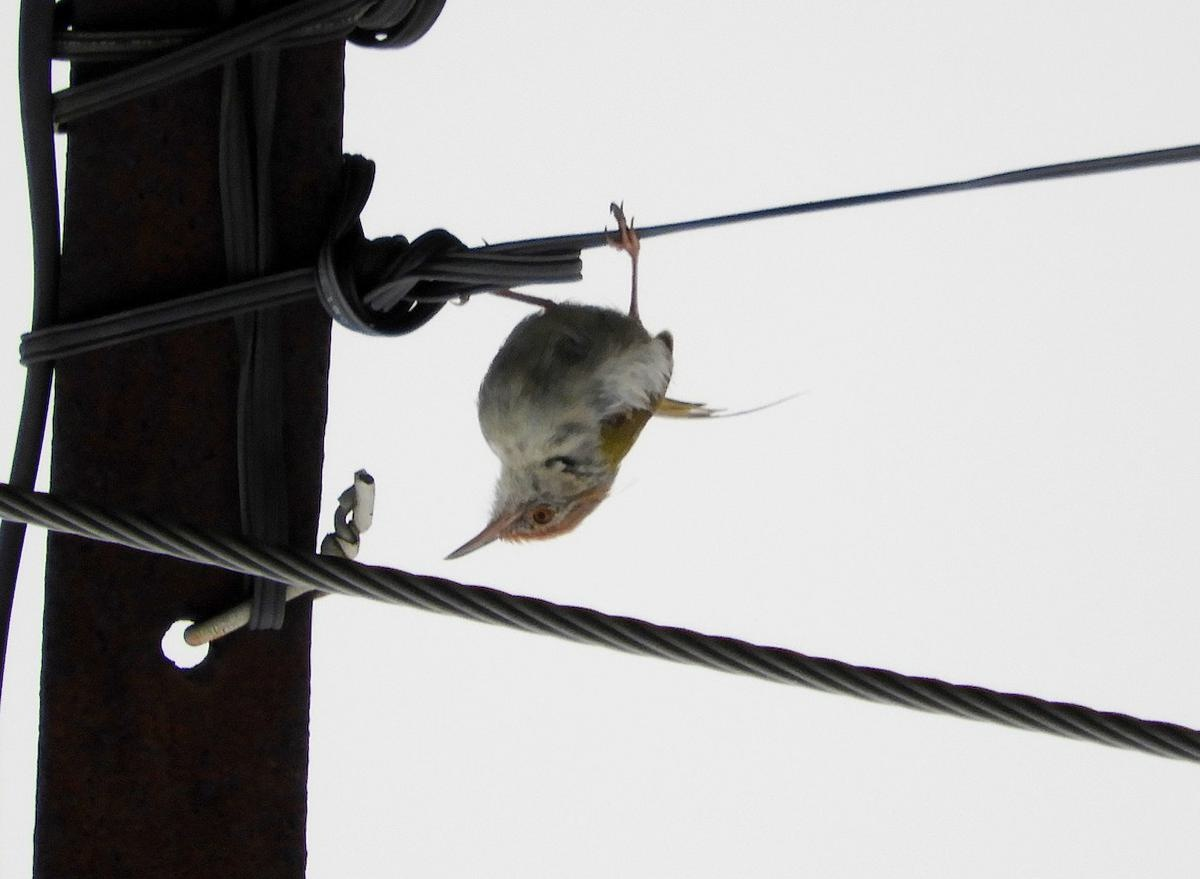tailorbird: (428, 203, 749, 602)
